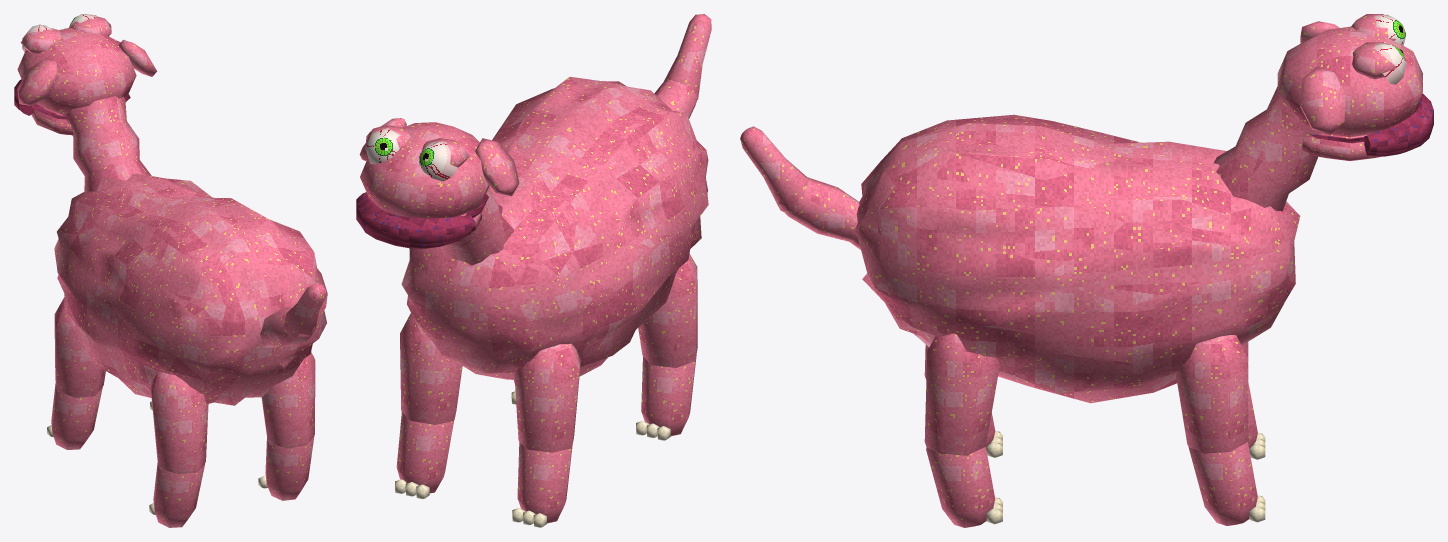
The model's file is s_stomachdog.glb.
The picture shows the model from 3 angles, left to right: view 1: azimuth 30°, elevation 25°; view 2: azimuth 150°, elevation 25°; view 3: azimuth 270°, elevation 25°; orthographic projection. The views are drawn at different scales.
Visible parts, largest first — view 1: body_m, head_m, neck_m, legBL_m, legBR_m, legFL_m, shinBL_m, shinBR_m, shinFL_m, tail2_m, tail_m, jaw_m; view 2: body_m, head_m, legFL_m, legFR_m, legBL_m, shinFL_m, shinFR_m, shinBL_m, neck_m, tail2_m, tail_m, jaw_m; view 3: body_m, head_m, legBR_m, legFR_m, neck_m, shinFR_m, shinBR_m, tail_m, tail2_m, jaw_m.
Part boxes in pixels (x1,y1,x2,y2): body_m: (54,173,327,405); head_m: (14,14,157,119); neck_m: (62,96,151,192); legBL_m: (150,371,208,474); legBR_m: (261,352,315,448); legFL_m: (54,297,105,397); shinBL_m: (149,462,204,527); shinBR_m: (258,436,314,500); shinFL_m: (47,383,102,449); tail2_m: (283,283,326,340); tail_m: (260,307,315,347); jaw_m: (21,107,73,135); body_m: (401,76,708,379); head_m: (356,118,519,244); legFL_m: (514,343,580,452); legFR_m: (400,313,462,424); legBL_m: (638,254,697,368); shinFL_m: (512,442,572,527); shinFR_m: (395,412,453,499); shinBL_m: (636,355,696,440); neck_m: (441,186,514,265); tail2_m: (663,14,711,99); tail_m: (654,79,698,118); jaw_m: (362,212,481,248); body_m: (854,114,1300,403); head_m: (1277,14,1433,153); legBR_m: (924,333,999,455); legFR_m: (1175,335,1248,453); neck_m: (1214,86,1322,211); shinFR_m: (1188,442,1265,525); shinBR_m: (926,447,1002,527); tail_m: (778,177,860,249); tail2_m: (740,126,809,212); jaw_m: (1301,133,1430,160).
Size of what is drawn, in the model's own units: 0.5811 by 1.14 by 1.55.
Materials: 4 (4 with a texture image).
